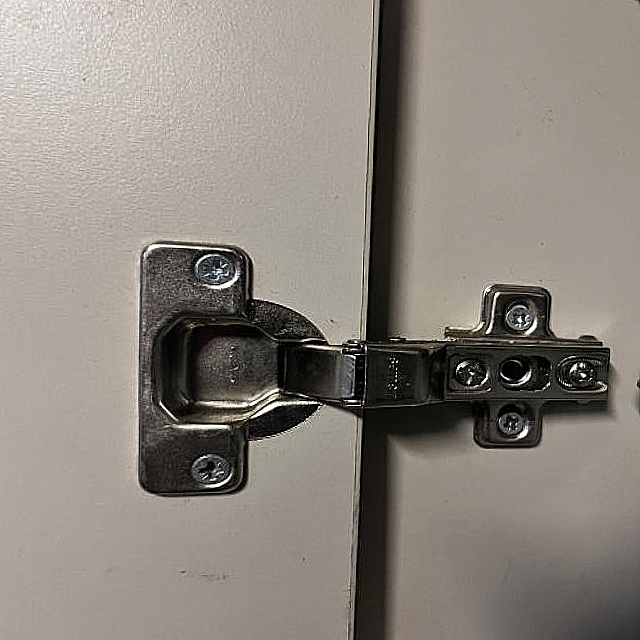pozidriv: (193, 252, 236, 287), (191, 454, 231, 485), (506, 306, 534, 331), (498, 412, 524, 435)
